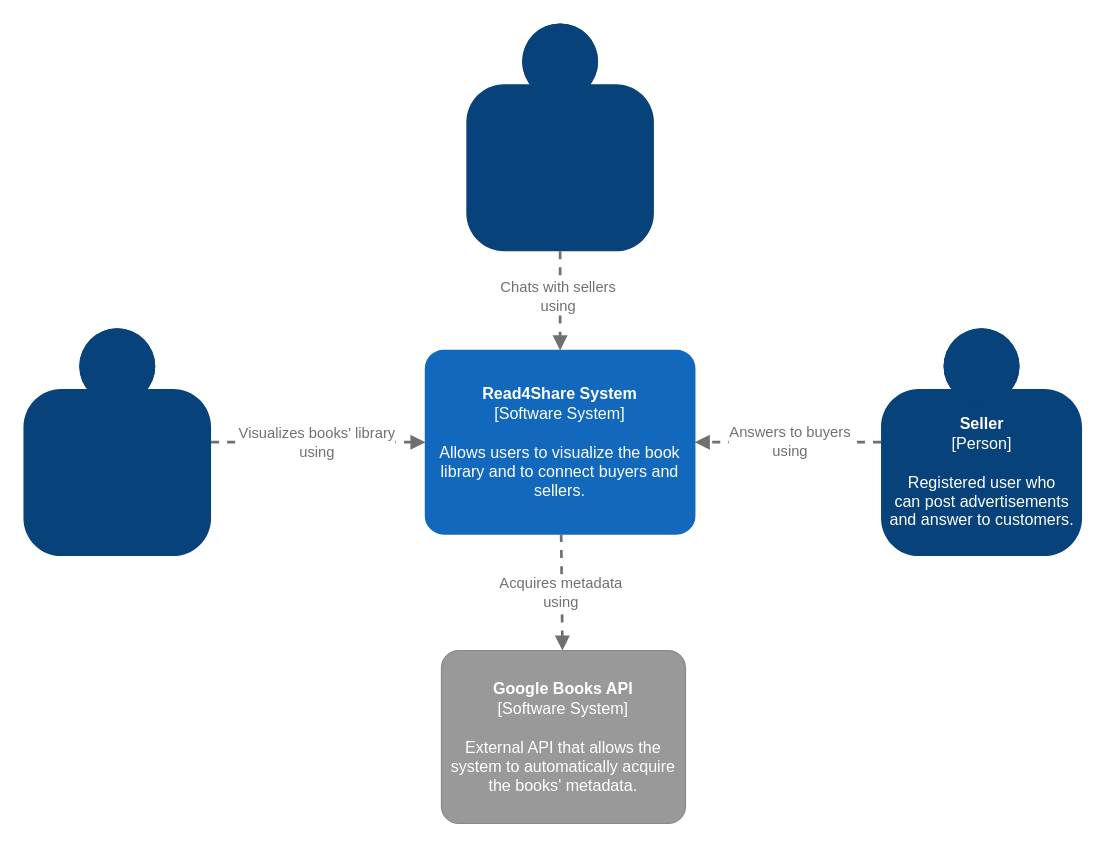
Some shapes in this 1104 by 847 pixel diagram are drawn without their labels. The shapes that lost their labels are listed below. From the top down, each one's box as (x1, y1, x2, y2) in pixels, then its label:
(466, 23, 653, 251): Buyer [Person] Registered user who can chat with sellers and buy books.
(23, 328, 210, 555): Viewer [Person] General user without an account or not logged in.
